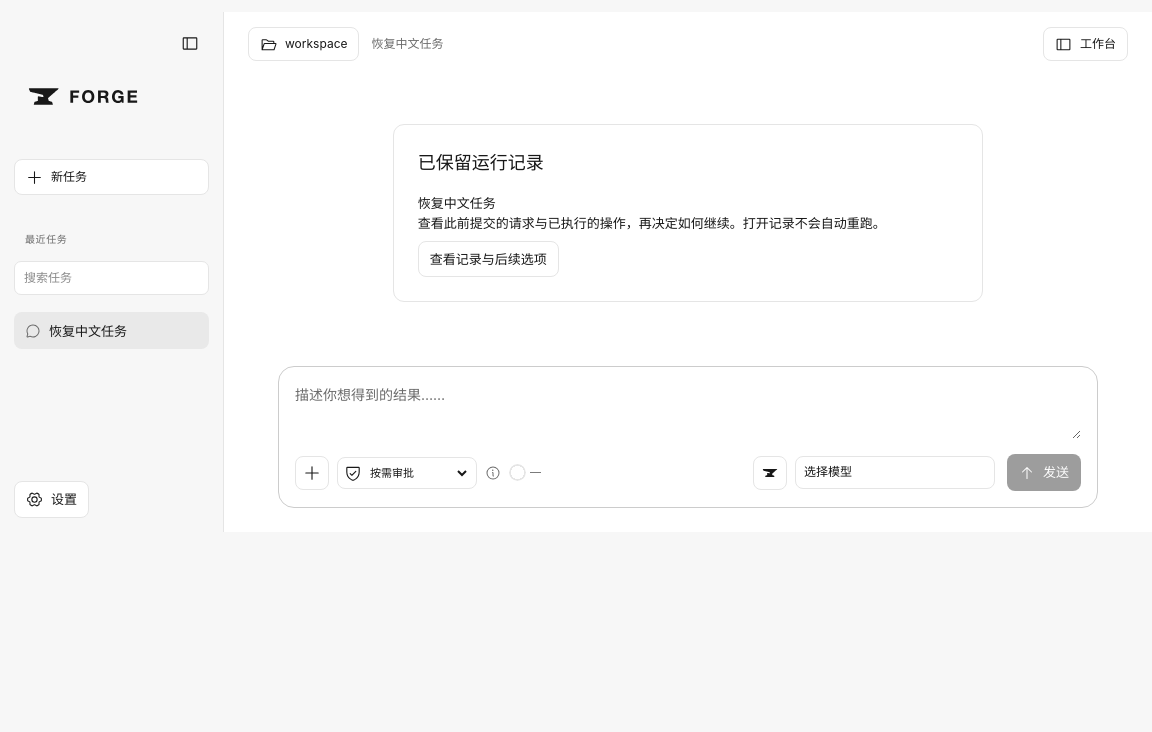
it: retained task entry › opens the saved record without sending or fabricating conversation
This screenshot has width=1152, height=732.
Expected: the element with class "retained-task" shows "恢复中文任务", [418,195,496,211]
Click the button "查看记录与后续选项" at (488, 259), box [418,241,559,277]
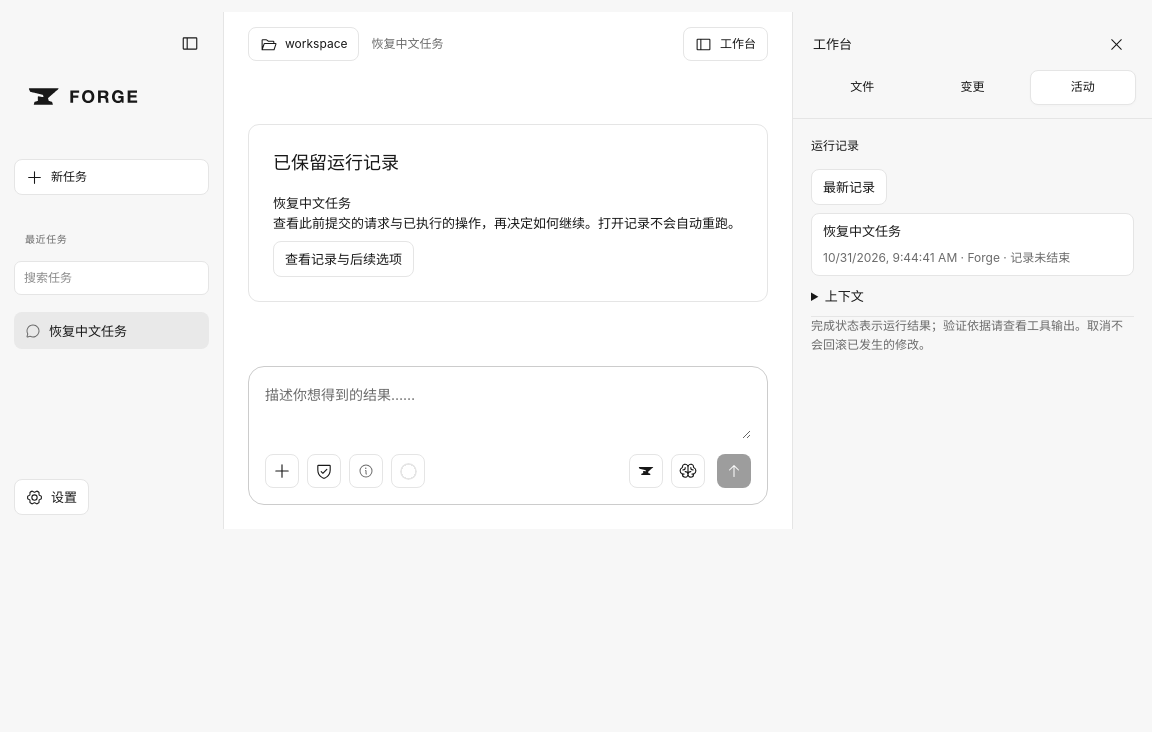
Expected: the element with class "run-history" is shown, [811,137,1134,276]
